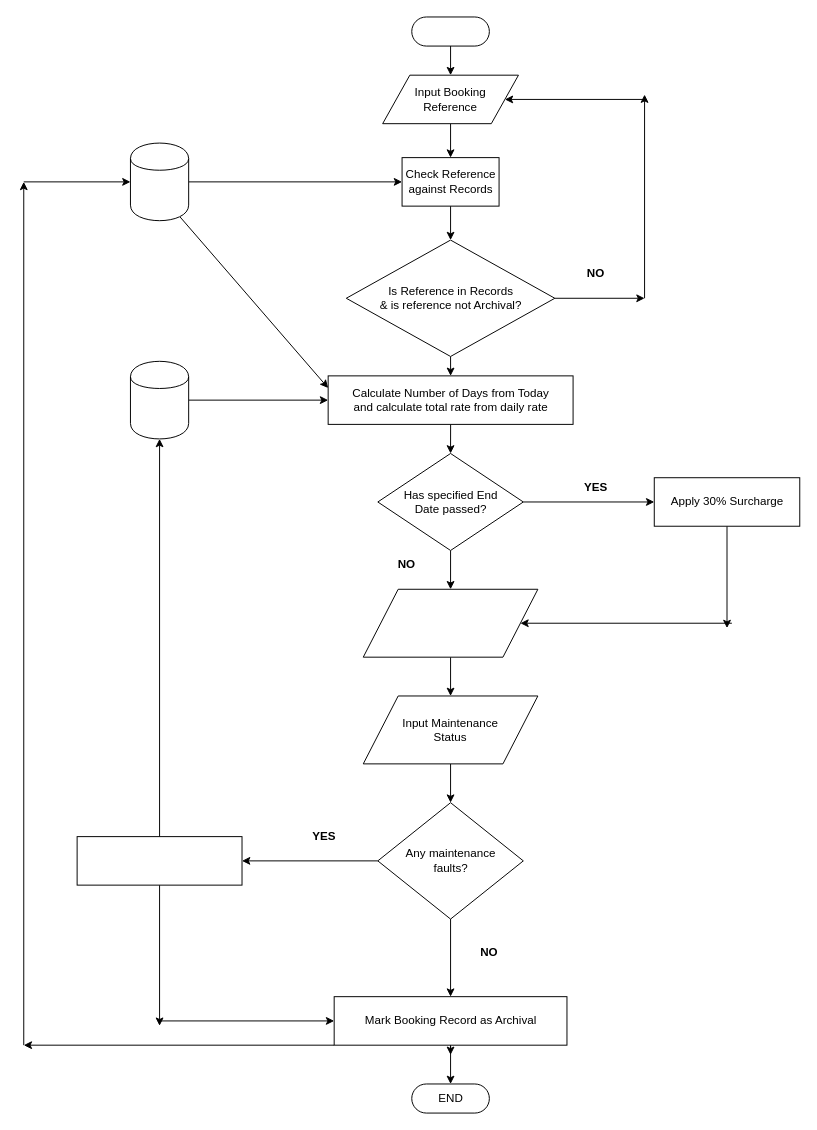
Image size: 817x1130. Some labels were removed from this diagram. The box of each missing label's shape, as (x1, y1, x2, y2) in pixels:
Edit Maintenance Log: (76, 836, 242, 885)
Output Charge: (362, 588, 538, 657)
Records: (129, 142, 189, 221)
START: (411, 16, 489, 46)
Vehicle: (129, 360, 189, 439)
